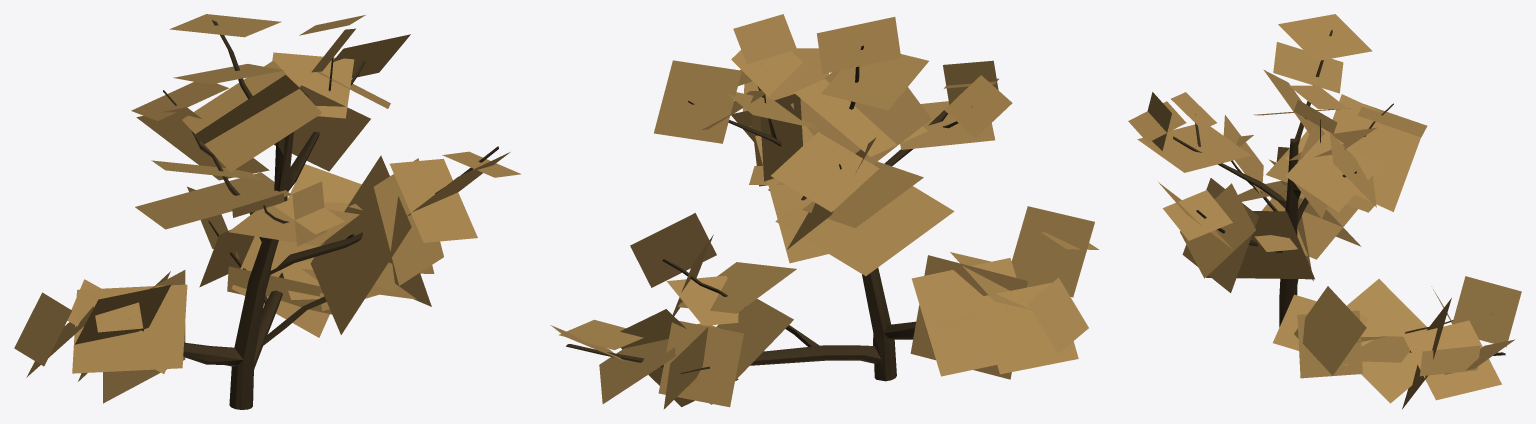
Rendered from Bush 1 LOD 1.fbx.
The picture shows the model from 3 angles, left to right: view 1: azimuth 30°, elevation 25°; view 2: azimuth 150°, elevation 25°; view 3: azimuth 270°, elevation 25°; orthographic projection. The views are drawn at different scales.
Parts seen in each view (by area): view 1: Bush_1_LOD_1; view 2: Bush_1_LOD_1; view 3: Bush_1_LOD_1.
Part boxes in pixels (left/top/right/bottom): Bush_1_LOD_1: left=14, top=14, right=521, bottom=409; Bush_1_LOD_1: left=550, top=14, right=1099, bottom=409; Bush_1_LOD_1: left=1128, top=14, right=1521, bottom=409.
Bounding box in the file's own units: 5.05 × 4.21 × 4.62.
